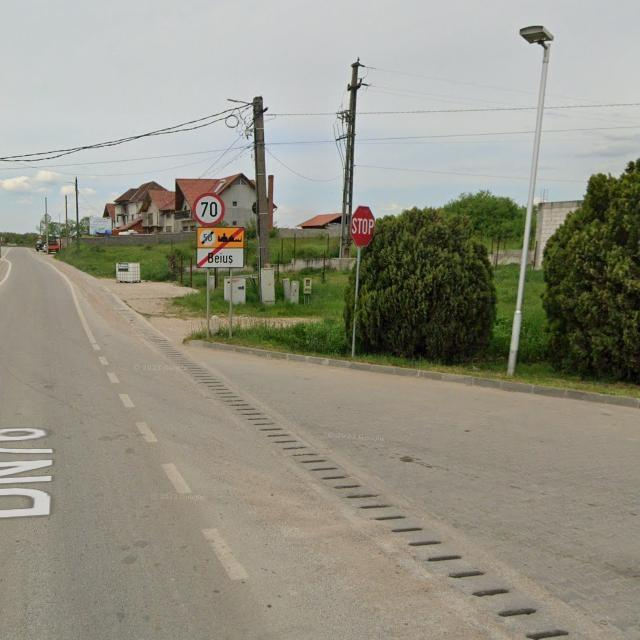forb_speed_over_70: (193, 194, 225, 227)
prio_stop: (350, 206, 376, 246)
